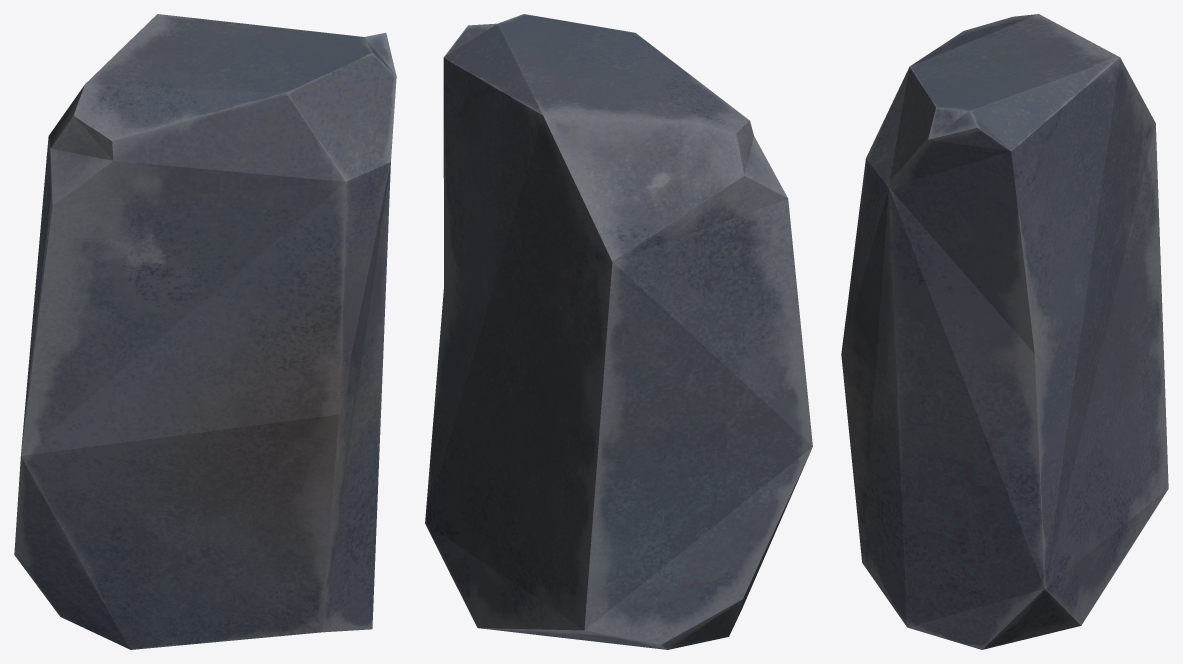
The model's file is stylized_rock_22.fbx.
3 renders of one model, left to right at view 1: azimuth 30°, elevation 25°; view 2: azimuth 150°, elevation 25°; view 3: azimuth 270°, elevation 25°, orthographic. The views are drawn at different scales.
Parts seen in each view (by area): view 1: stylized_rock_22; view 2: stylized_rock_22; view 3: stylized_rock_22.
Boxes of the visible parts, x1,y1,x2,y2 form: stylized_rock_22: [14, 14, 396, 649]; stylized_rock_22: [425, 14, 812, 649]; stylized_rock_22: [841, 14, 1168, 649].
Bounding box in the file's own units: 73.77 × 109 × 60.51.
